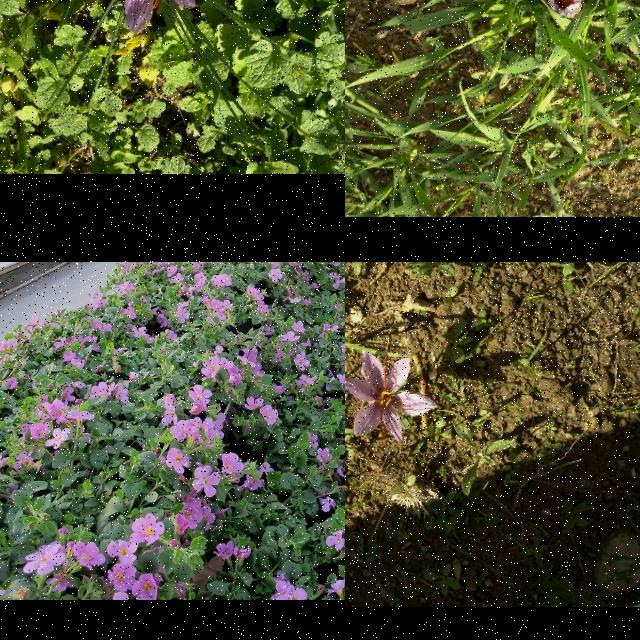flower: (345, 351, 440, 444), (122, 0, 211, 33), (548, 0, 586, 18)
